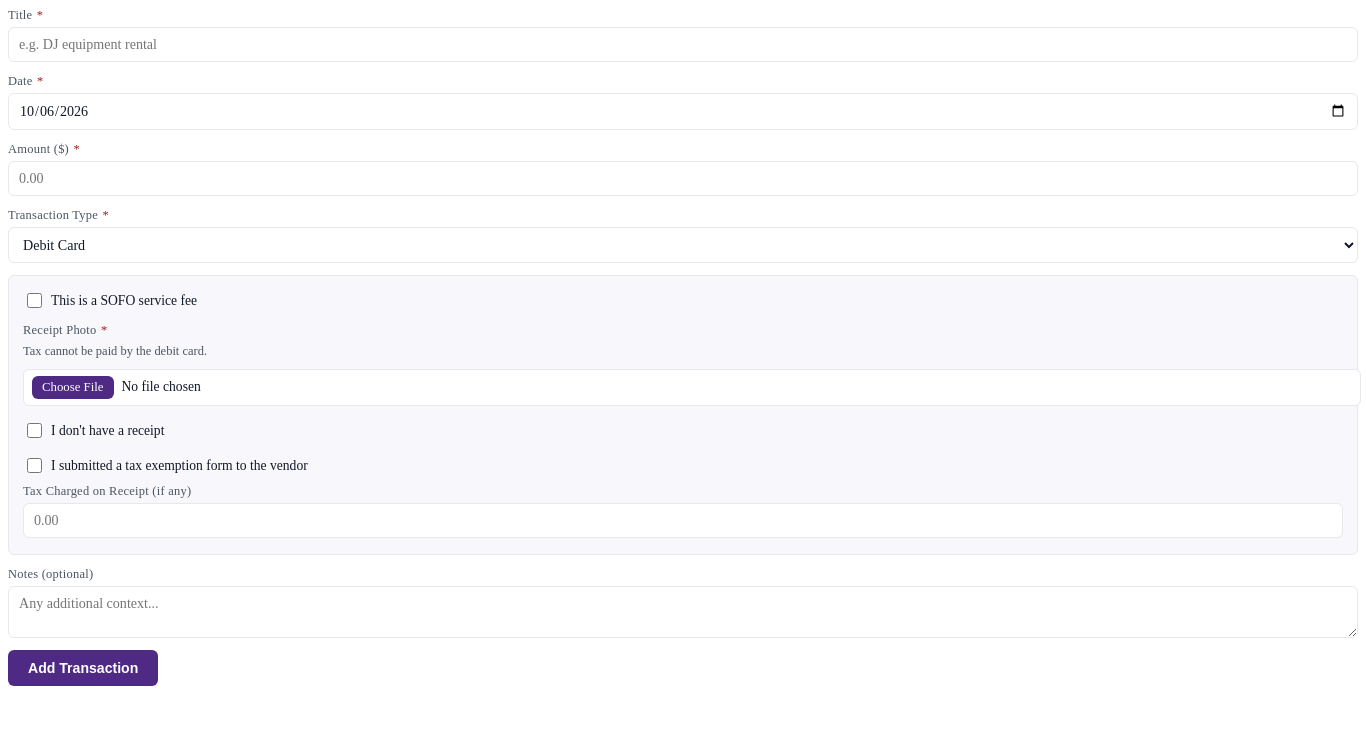
Test: AddTransactionForm › shows an error message when the submission fails
Type "Pizza" into the field labelled "Title *" at (683, 44), box [8,27,1358,62]
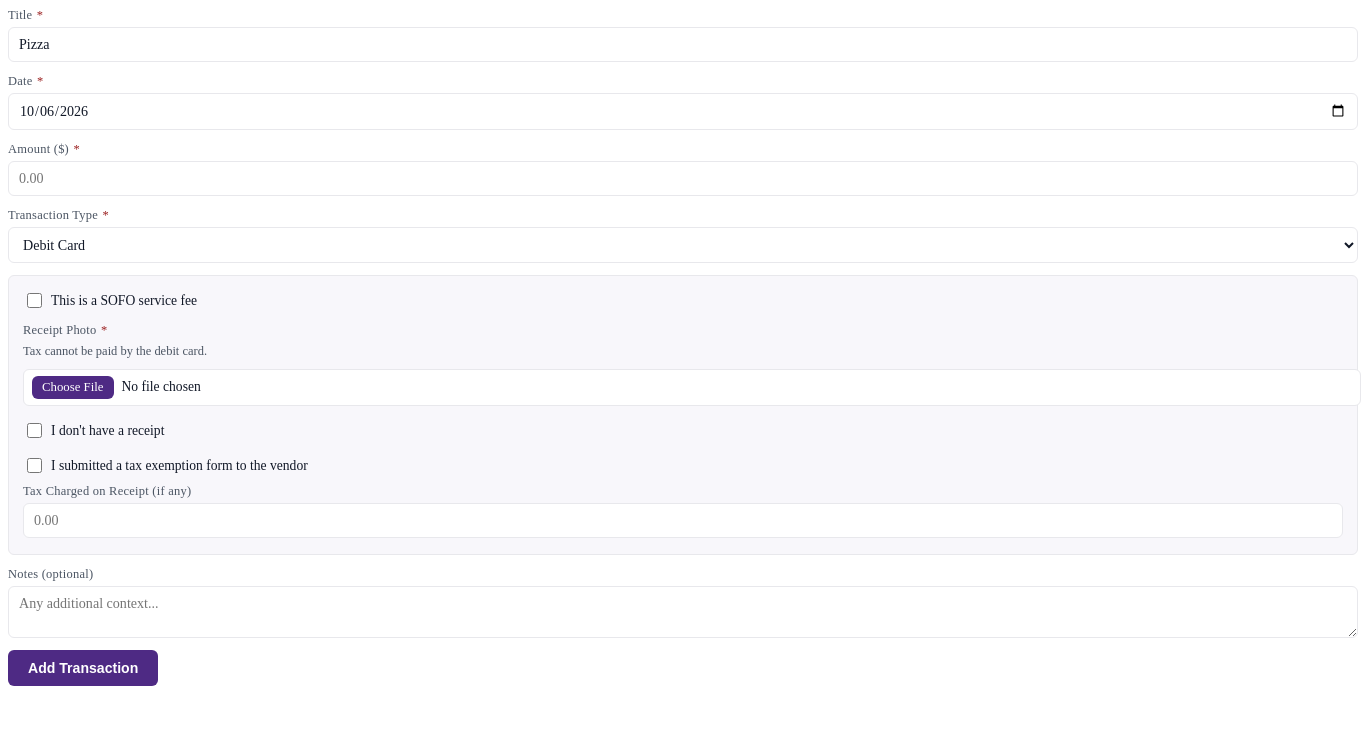
Type "12.50" into the field labelled "Amount ($) *" at (683, 178), box [8,161,1358,196]
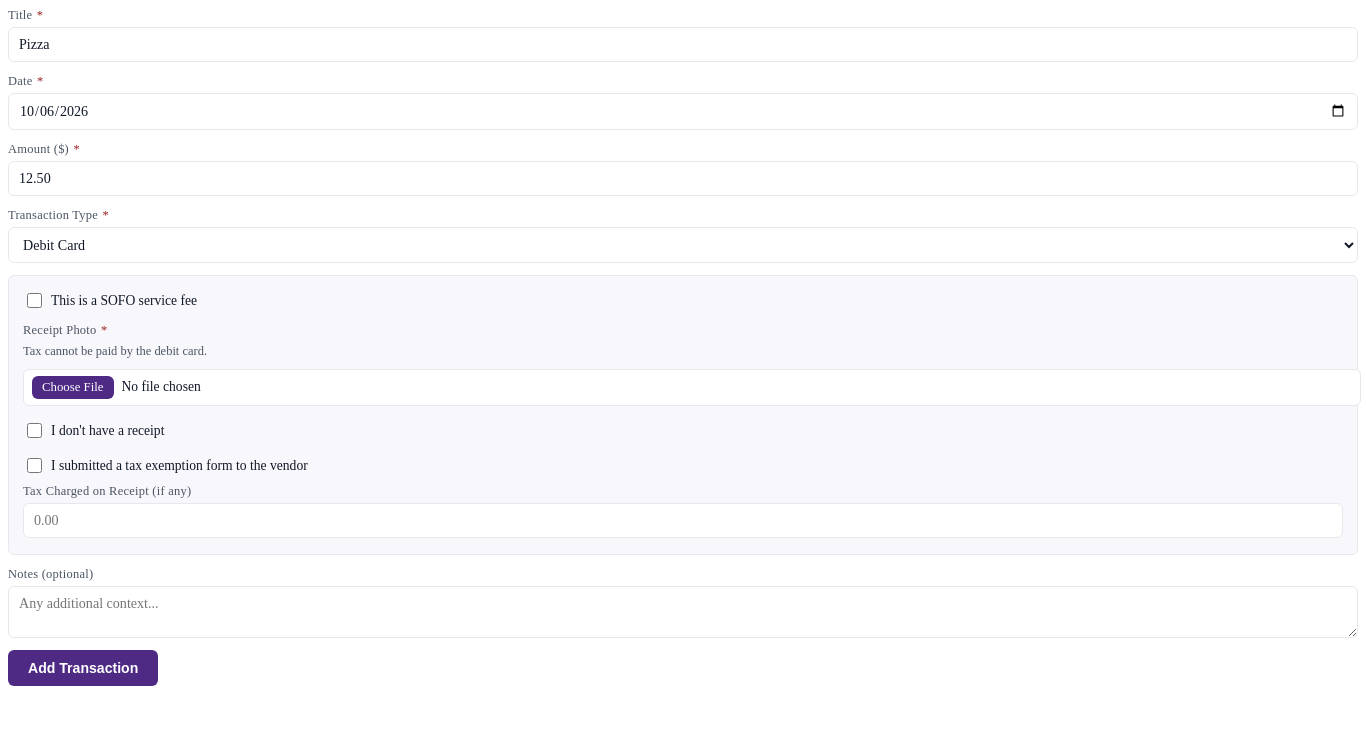
Click the text "I don't have a receipt" at (108, 430), box [51,422,164,438]
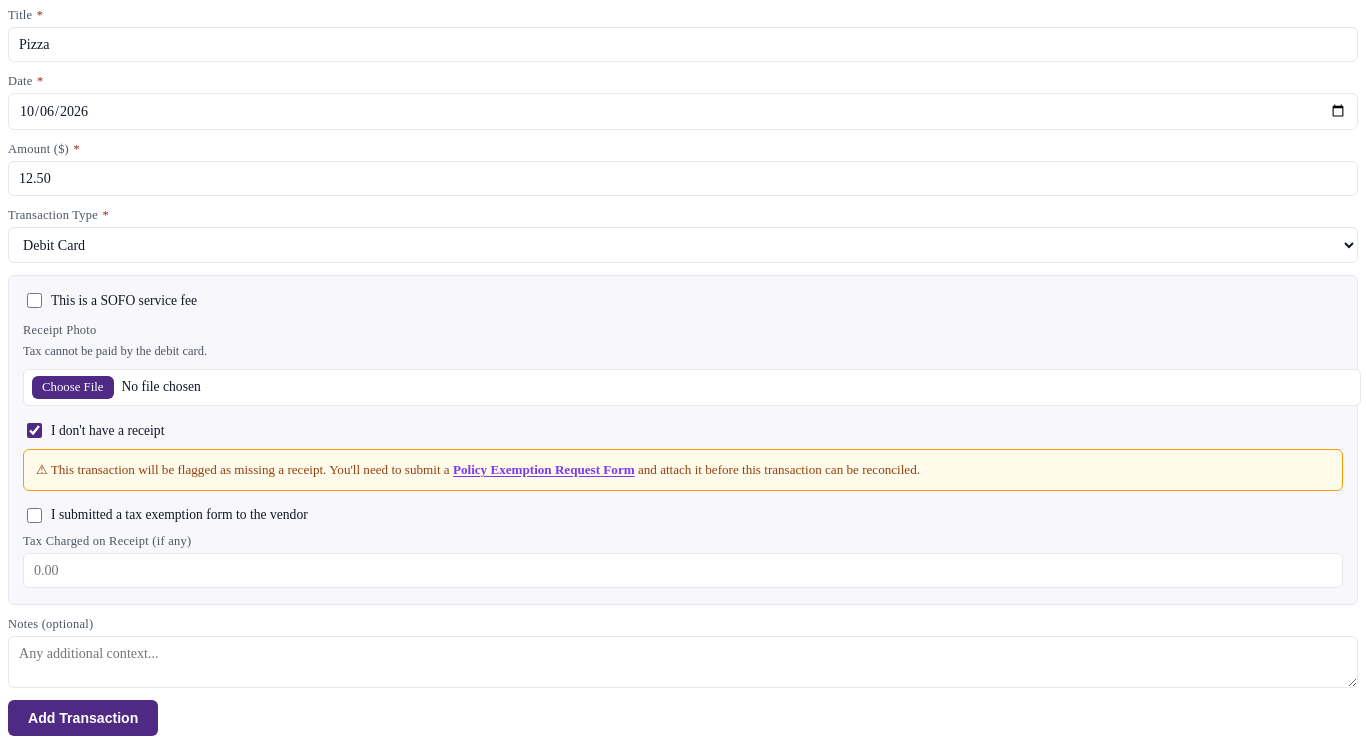
Click the button "Add Transaction" at (83, 718), box [8,700,158,736]
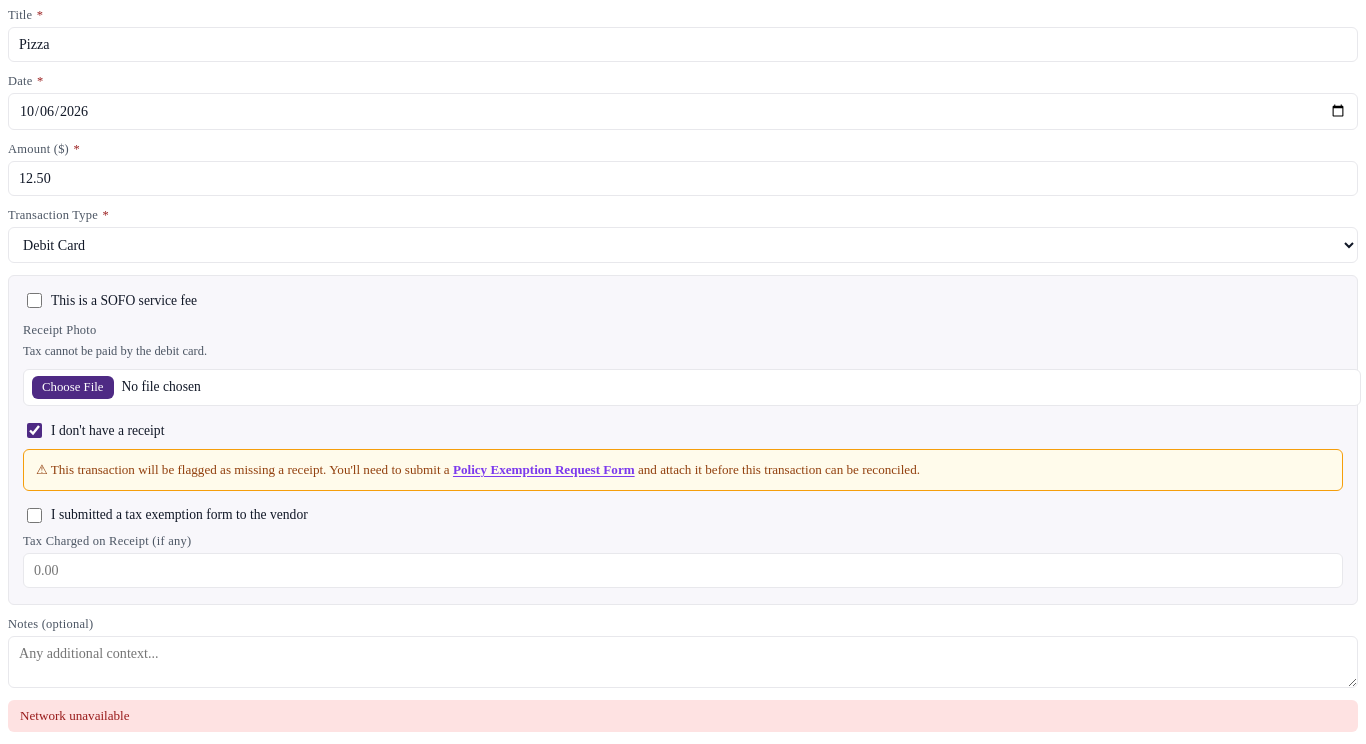
Expected: the text "Network unavailable" is shown, [8,700,1358,732]
